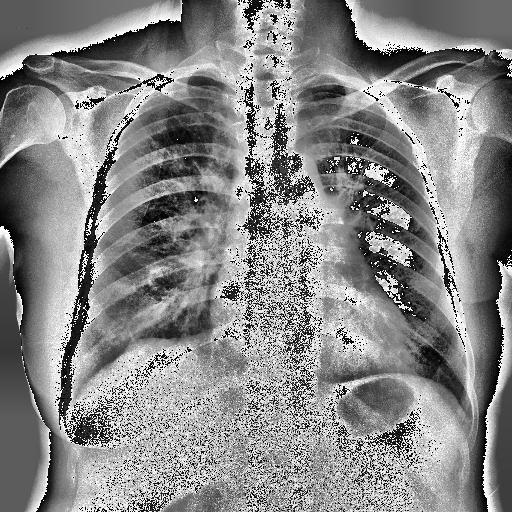11- Pleural thickening: (119, 335, 150, 350)
3- Cardiomegaly: (210, 276, 416, 376), (208, 294, 408, 374)
7- Lung Opacity: (86, 258, 182, 364)
9- Other lesion: (86, 258, 182, 364)
